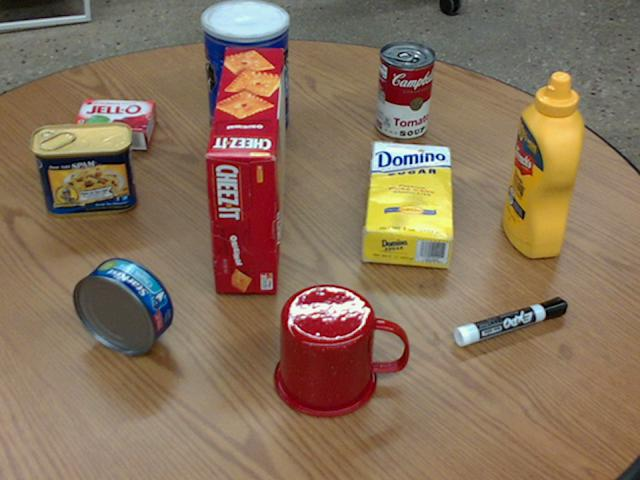cracker_box: (204, 47, 285, 293)
gelatin_box: (69, 98, 154, 147)
large_marker: (454, 297, 566, 346)
master_chef_can: (200, 0, 287, 140)
mug: (274, 283, 407, 417)
mustard_bottle: (502, 73, 582, 257)
potted_meat_can: (30, 121, 135, 214)
sugar_box: (362, 142, 452, 265)
tomato_soup_can: (375, 41, 434, 138)
tuna_fish_can: (74, 258, 173, 354)
